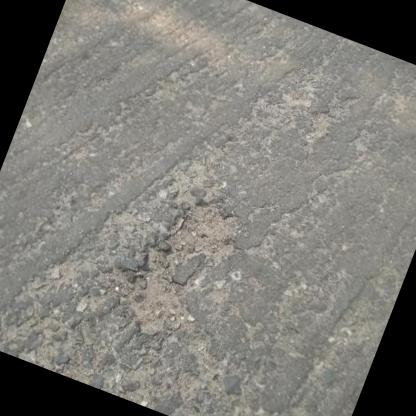pothole: (102, 180, 244, 351)
